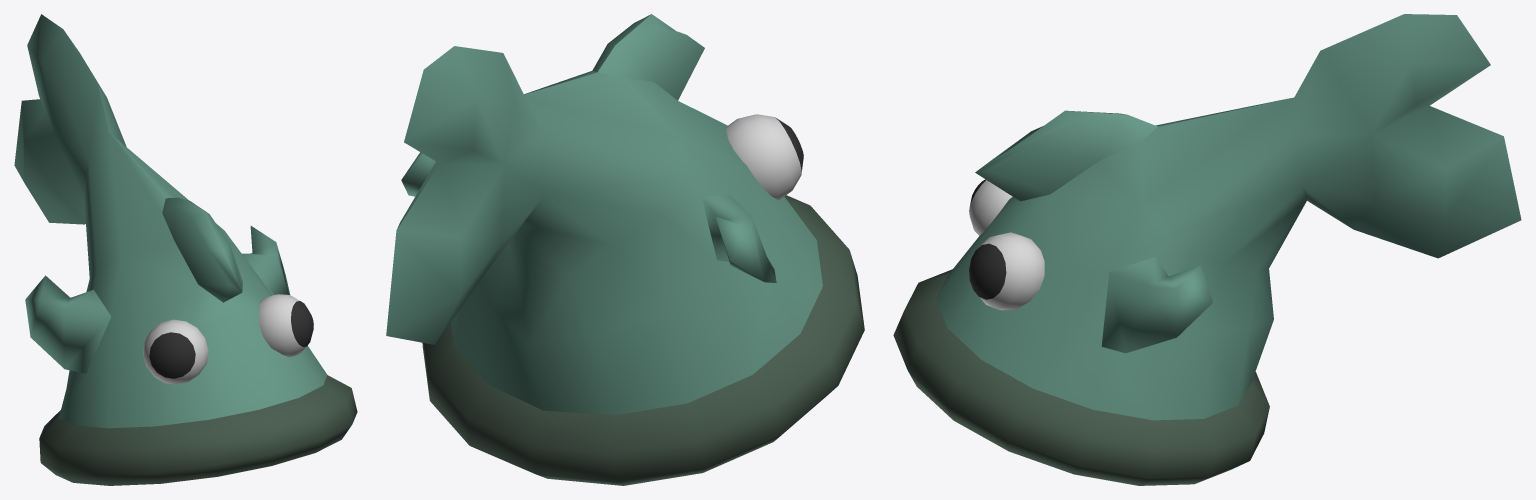
Rendered from hat_fish.fbx.
3 views of the same model, side by side, from view 1: azimuth 30°, elevation 25°; view 2: azimuth 150°, elevation 25°; view 3: azimuth 270°, elevation 25° (orthographic). The views are drawn at different scales.
Visible parts, largest first — view 1: hat_fish; view 2: hat_fish; view 3: hat_fish.
Part boxes in pixels (x1,y1,x2,y2): hat_fish: [14, 14, 357, 485]; hat_fish: [386, 14, 864, 485]; hat_fish: [893, 14, 1521, 485].
Size of the model in its own units: 0.8052 by 0.9904 by 1.31.
